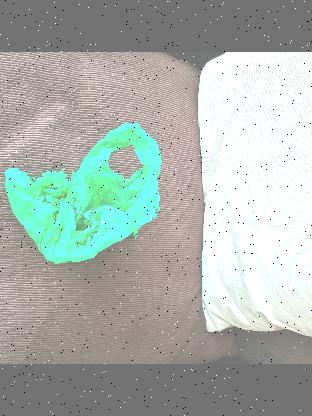Others: (4, 122, 166, 266)
